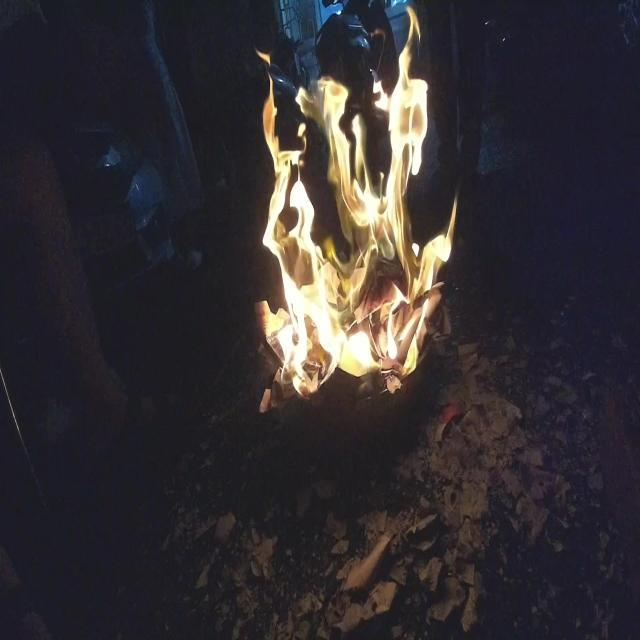Fire: (256, 0, 456, 398)
